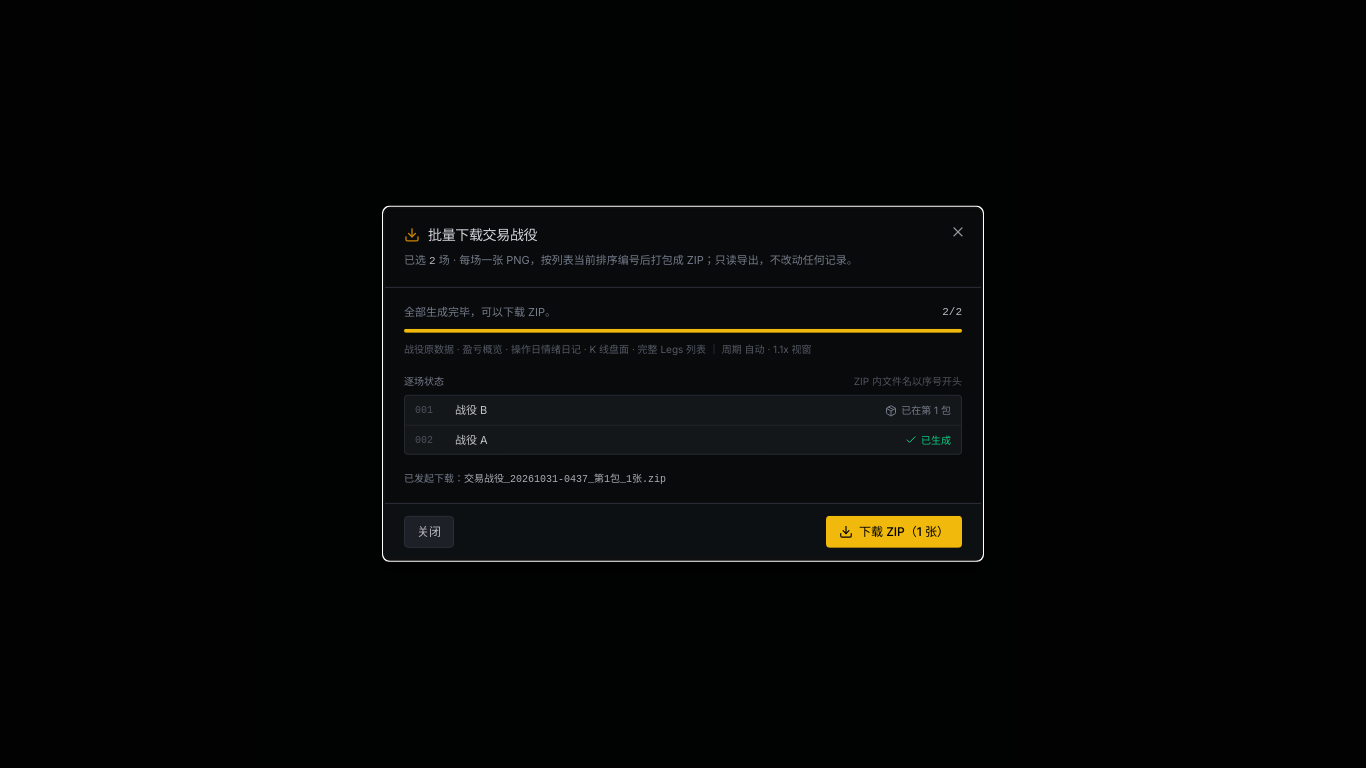
Test: 批量下载队列 › 达到内存预算时暂停分包：下载第 1 包后接着生成，序号与快照不变，包名带「第 N 包」
Earlier steps of the test are not shown.
Later steps or results of the test are not shown.
Step 1. Click the button "下载 ZIP（1 张）" → {"x": 894, "y": 532}, box x1=826 y1=516 x2=962 y2=548
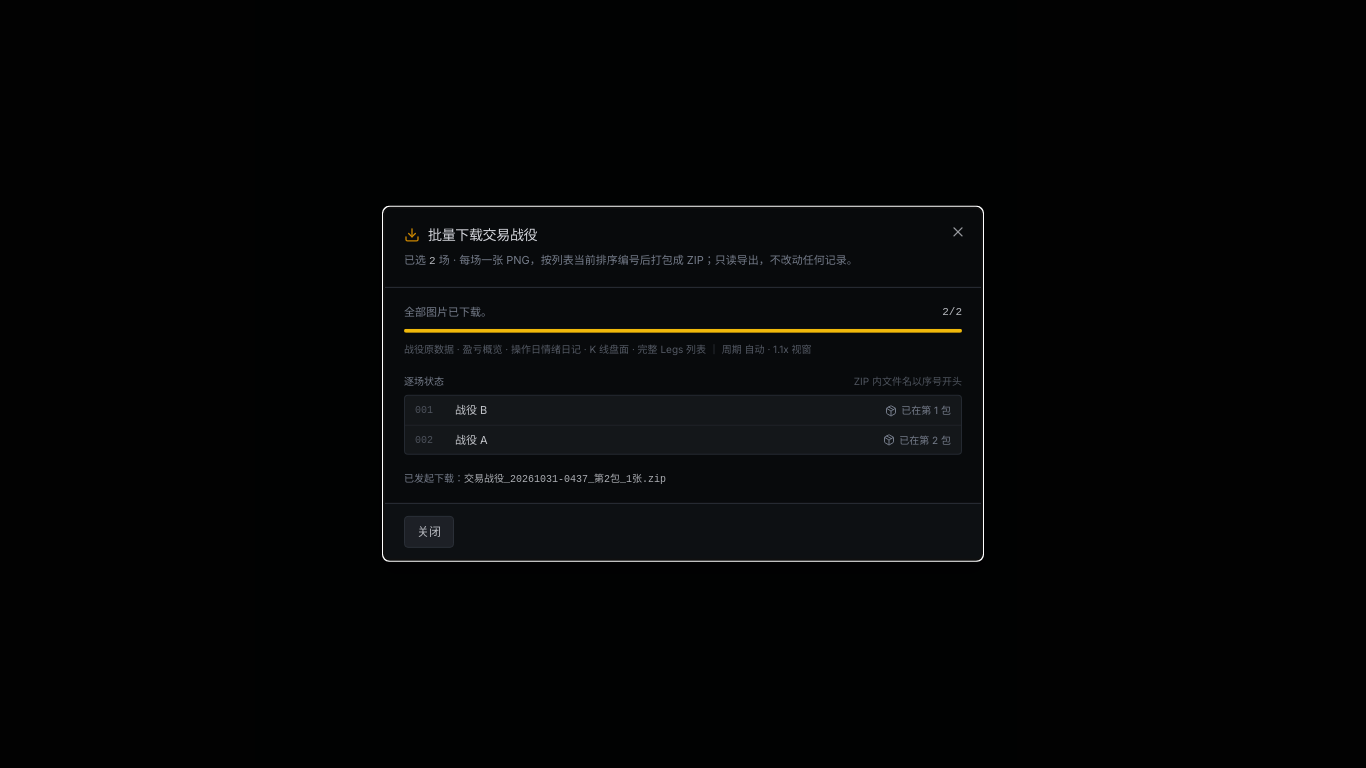
Check: the list item with test id "campaign-batch-row" shows "已在第 2 包", box x1=415 y1=433 x2=951 y2=447
